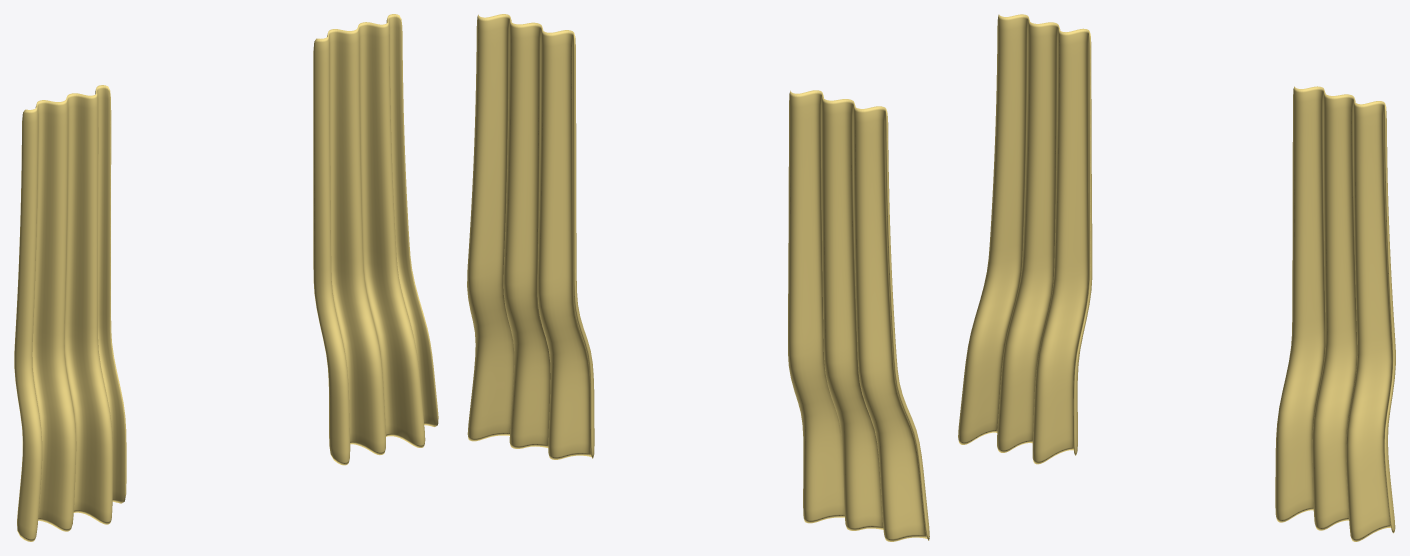
Rendered from curtain.glb.
3 renders of one model, left to right at view 1: azimuth 30°, elevation 25°; view 2: azimuth 150°, elevation 25°; view 3: azimuth 330°, elevation 25°, orthographic. The views are drawn at different scales.
Visible parts, largest first — view 1: curtain_b, curtain_a; view 2: curtain_a, curtain_b; view 3: curtain_b, curtain_a.
Part boxes in pixels (bbox=[...]): curtain_b: bbox=[313, 14, 438, 465]; curtain_a: bbox=[14, 85, 126, 541]; curtain_a: bbox=[788, 90, 929, 541]; curtain_b: bbox=[467, 14, 594, 459]; curtain_b: bbox=[1275, 86, 1395, 541]; curtain_a: bbox=[958, 14, 1092, 464].
Size of the model in its own units: 1.89 by 1.76 by 0.2507.
